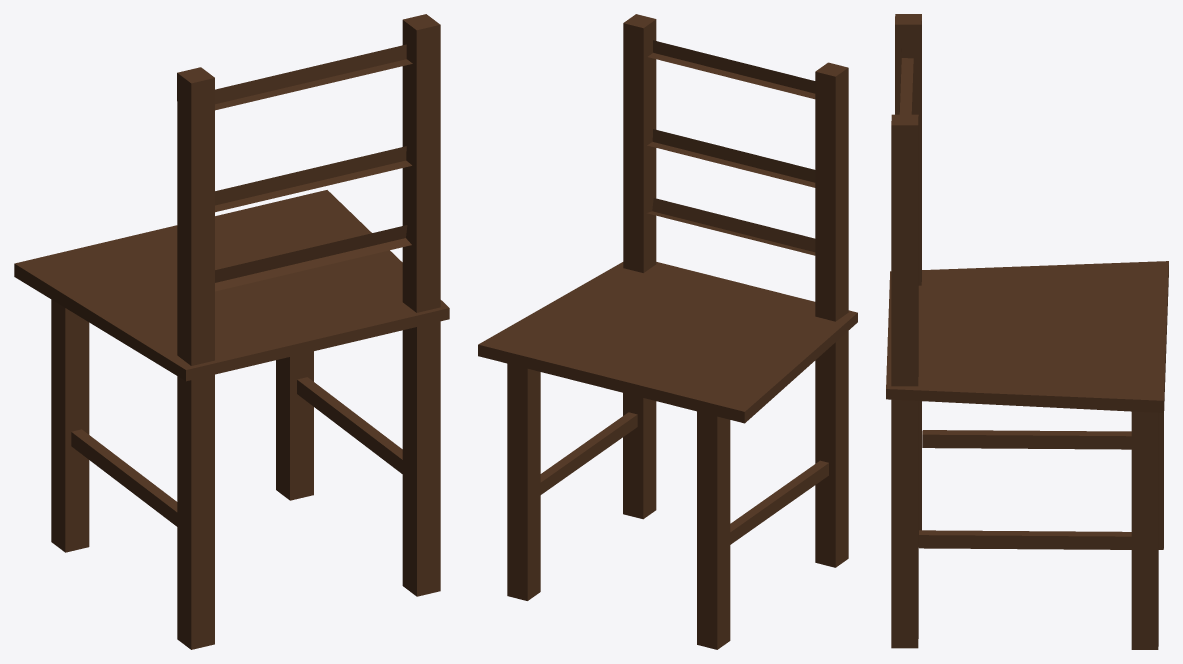
File: chairAtlas.fbx
3 views of the same model, side by side, from view 1: azimuth 30°, elevation 25°; view 2: azimuth 150°, elevation 25°; view 3: azimuth 270°, elevation 25° (orthographic). The views are drawn at different scales.
Visible parts, largest first — view 1: chair.011; view 2: chair.011; view 3: chair.011.
Boxes of the visible parts, bbox=[...] form: chair.011: bbox=[14, 14, 449, 649]; chair.011: bbox=[478, 14, 857, 649]; chair.011: bbox=[886, 14, 1168, 649].
Bounding box in the file's own units: 248 × 433 × 212.
